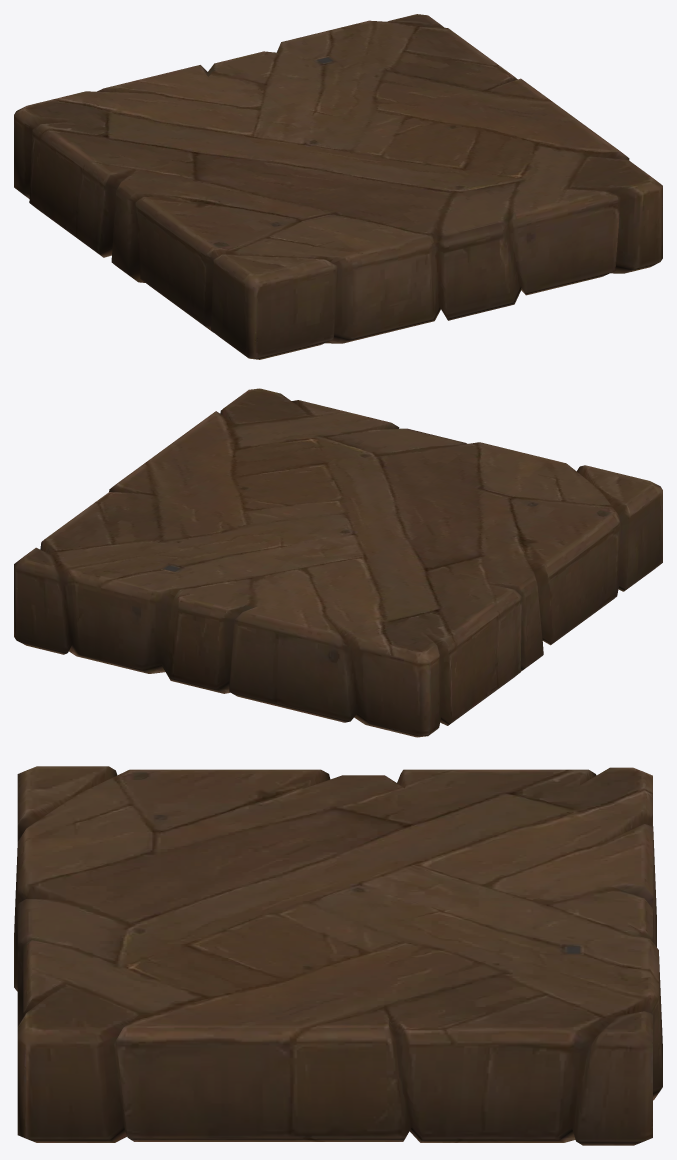
3 renders of one model, top to bottom at view 1: azimuth 30°, elevation 25°; view 2: azimuth 150°, elevation 25°; view 3: azimuth 270°, elevation 25°, orthographic. The views are drawn at different scales.
Bounding box in the file's own units: 4.1 × 0.8482 × 4.12.
1 material, 1 textured.
